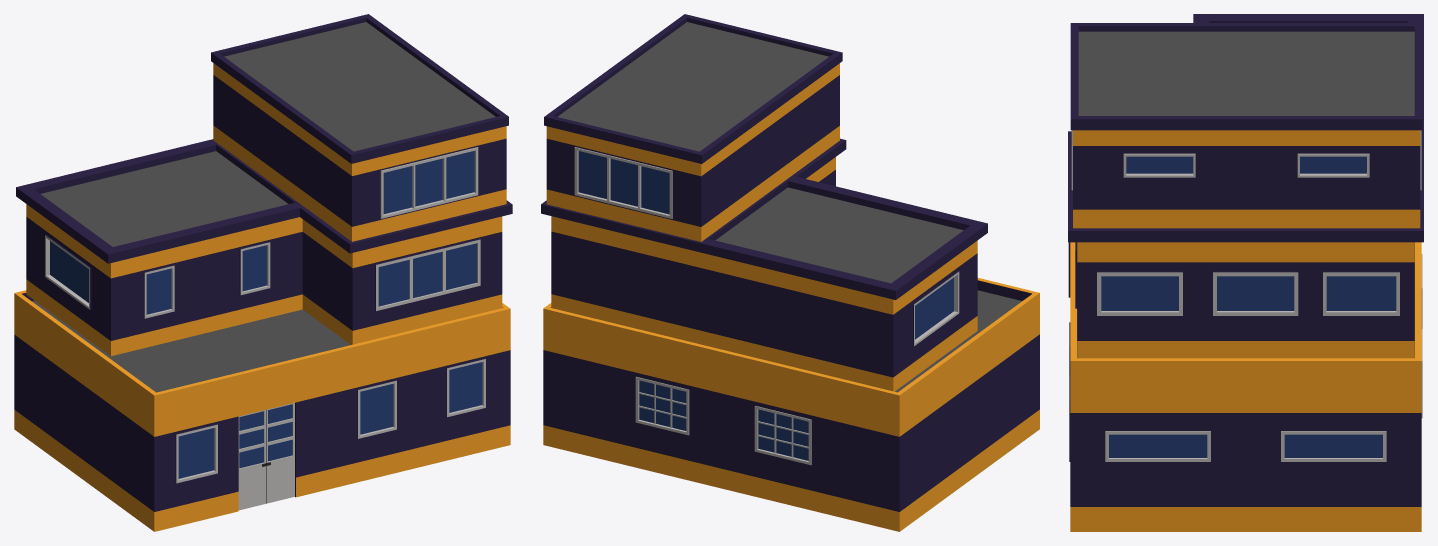
The model's file is Building_1.fbx.
The picture shows the model from 3 angles, left to right: view 1: azimuth 30°, elevation 25°; view 2: azimuth 150°, elevation 25°; view 3: azimuth 270°, elevation 25°; orthographic projection. The views are drawn at different scales.
Parts seen in each view (by area): view 1: Building_1; view 2: Building_1; view 3: Building_1.
Boxes of the visible parts, x1,y1,x2,y2 form: Building_1: (14, 14, 512, 531); Building_1: (541, 14, 1039, 531); Building_1: (1068, 14, 1423, 531).
Size of the model in its own units: 726 by 637 by 499.
